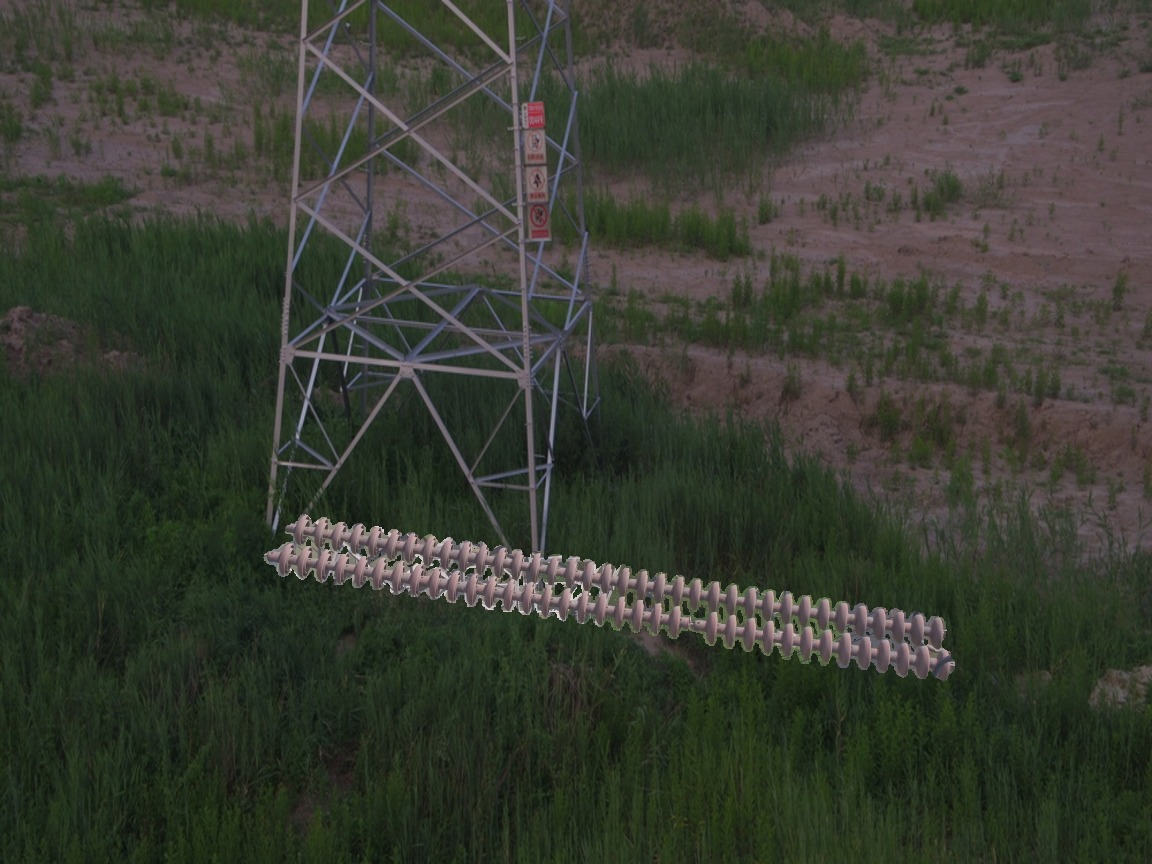defect: (661, 600, 727, 648)
